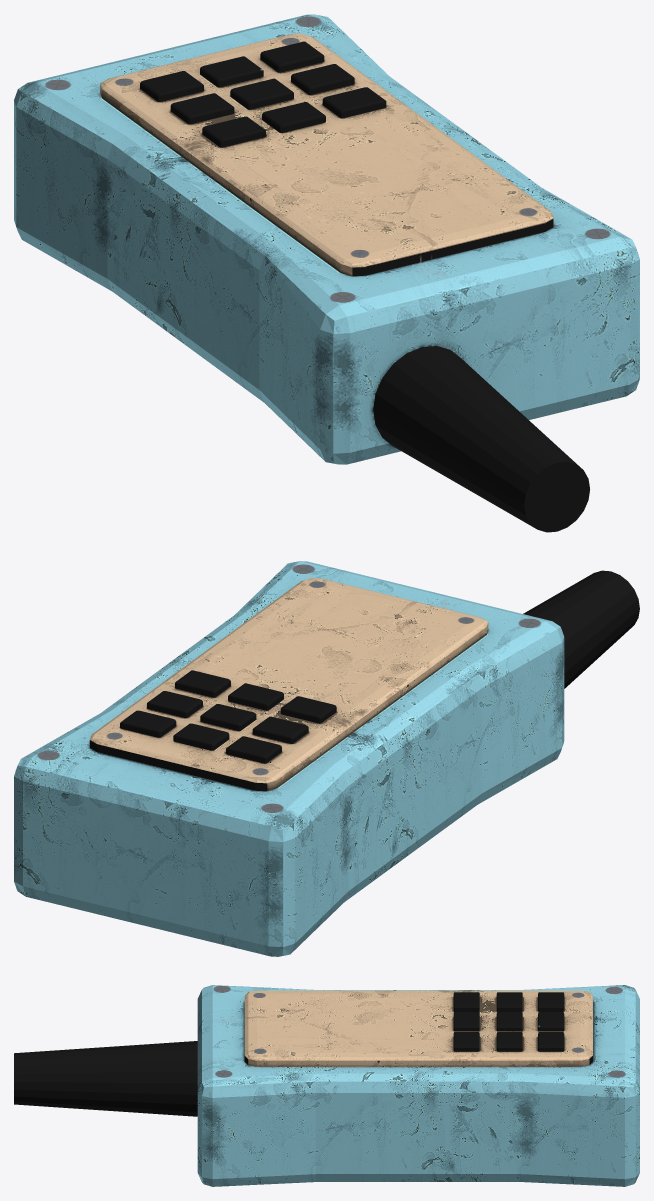
The model's file is GLB_WalkieTalkie.glb.
The picture shows the model from 3 angles, top to bottom: view 1: azimuth 30°, elevation 25°; view 2: azimuth 150°, elevation 25°; view 3: azimuth 270°, elevation 25°; orthographic projection. The views are drawn at different scales.
Visible parts, largest first — view 1: Walkie_Talkie; view 2: Walkie_Talkie; view 3: Walkie_Talkie.
Part boxes in pixels (<box>): Walkie_Talkie: <box>14,14,639,532</box>; Walkie_Talkie: <box>14,561,639,956</box>; Walkie_Talkie: <box>14,985,639,1186</box>.
Bounding box in the file's own units: 0.0287 × 0.0155 × 0.0721.
1 material, 1 textured.
